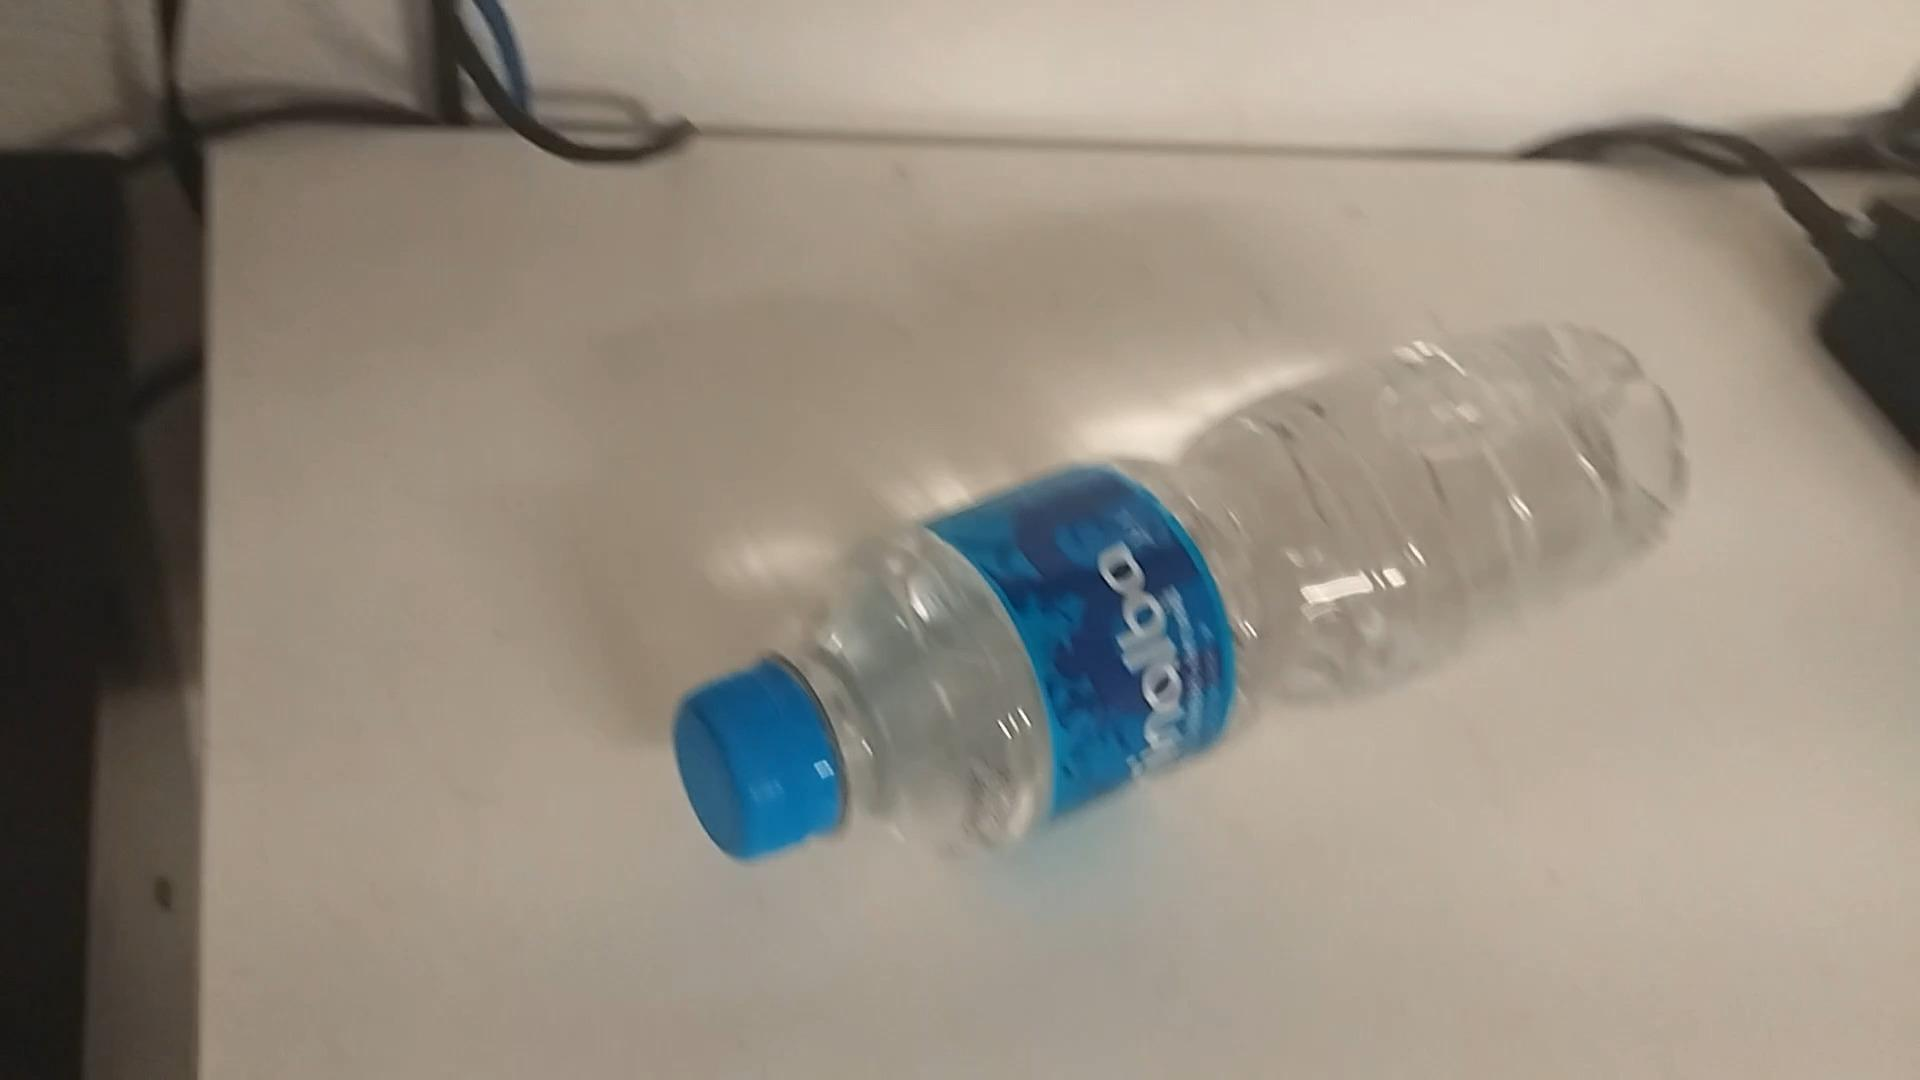agua: (684, 322, 1676, 872)
